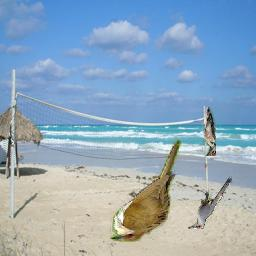Cuckoo: (111, 140, 182, 243), (188, 177, 232, 230)
Woodpecker: (204, 108, 216, 157)
